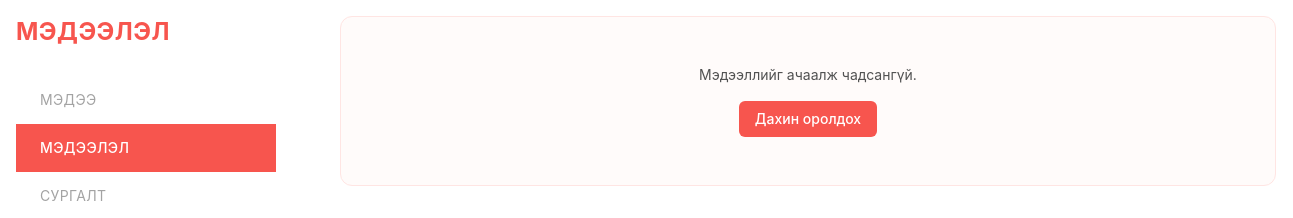
Test: NewsGrid › shows an explicit error and retries the request
Expected: the text "Мэдээллийг ачаалж чадсангүй." is shown, left=699, top=66, right=917, bottom=83
Click the button "Дахин оролдох".
click(808, 119)  # box left=739, top=101, right=877, bottom=137
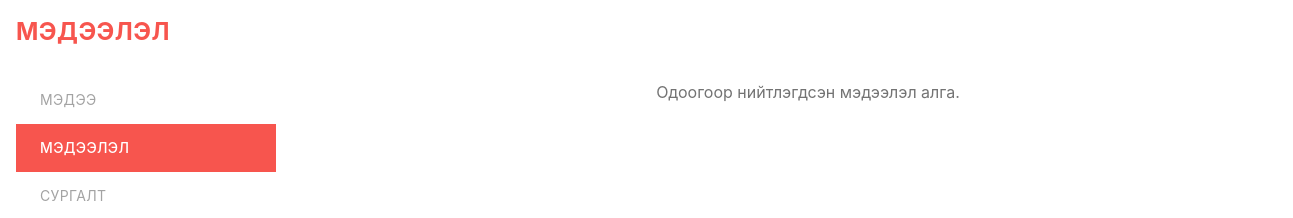
Expected: the text "Одоогоор нийтлэгдсэн мэдээлэл алга." is shown, left=656, top=82, right=960, bottom=102
